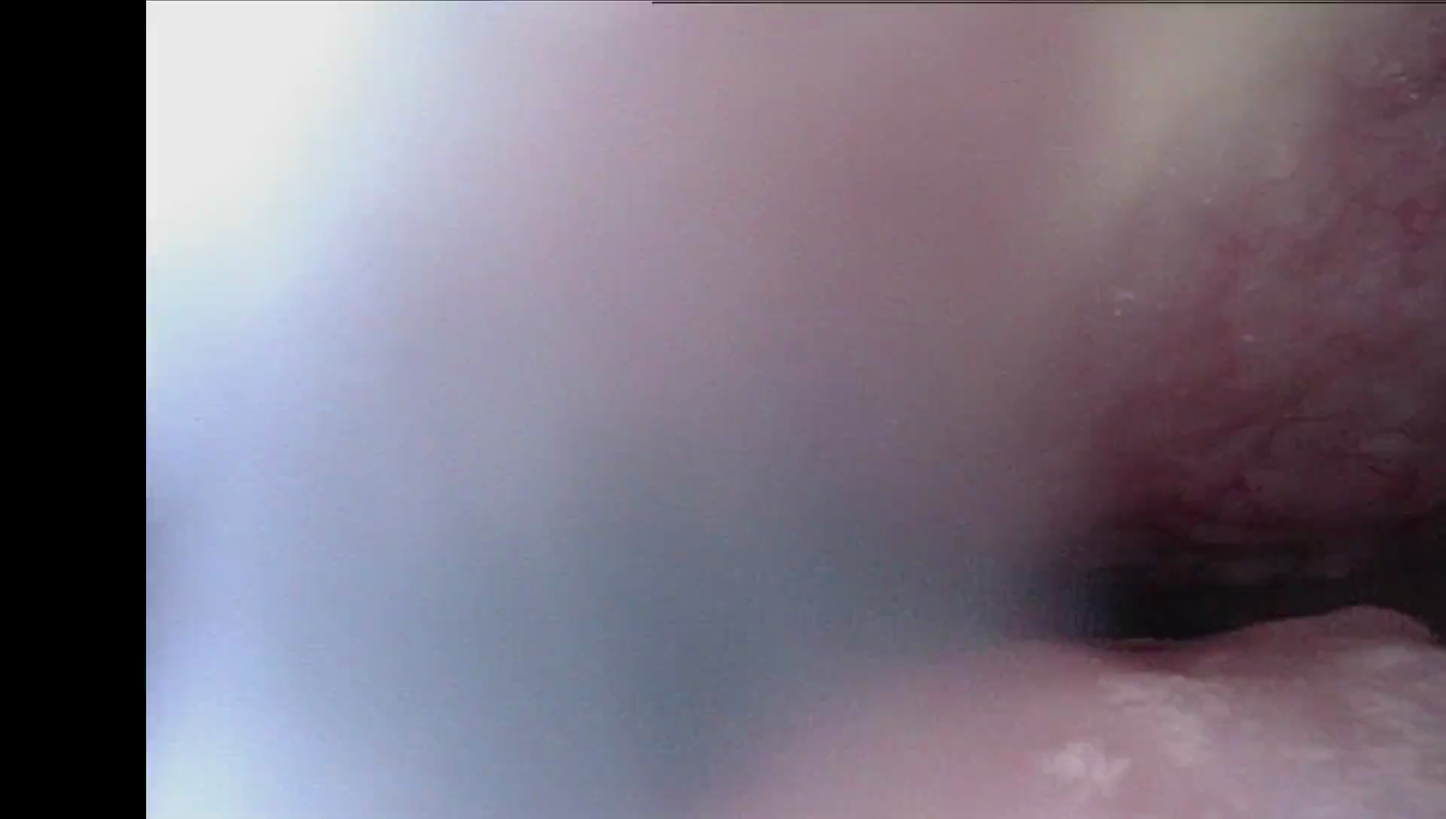close_wall: (162, 0, 1285, 352)
next: (1052, 468, 1446, 693)
